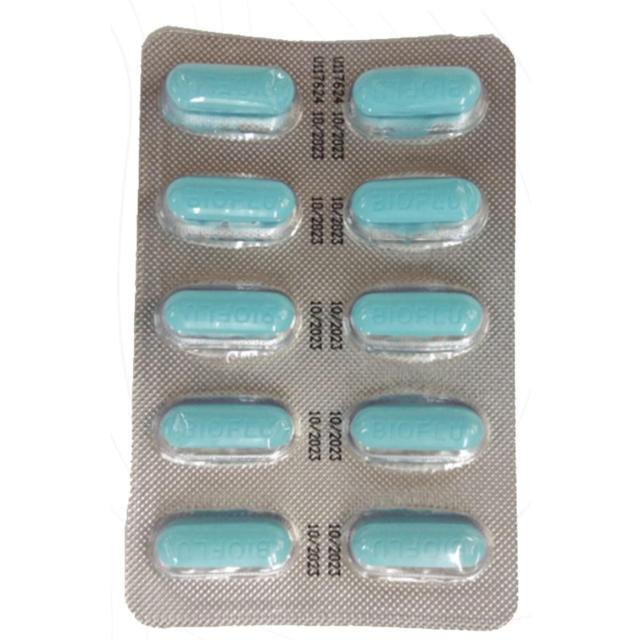blister: (127, 12, 527, 637)
